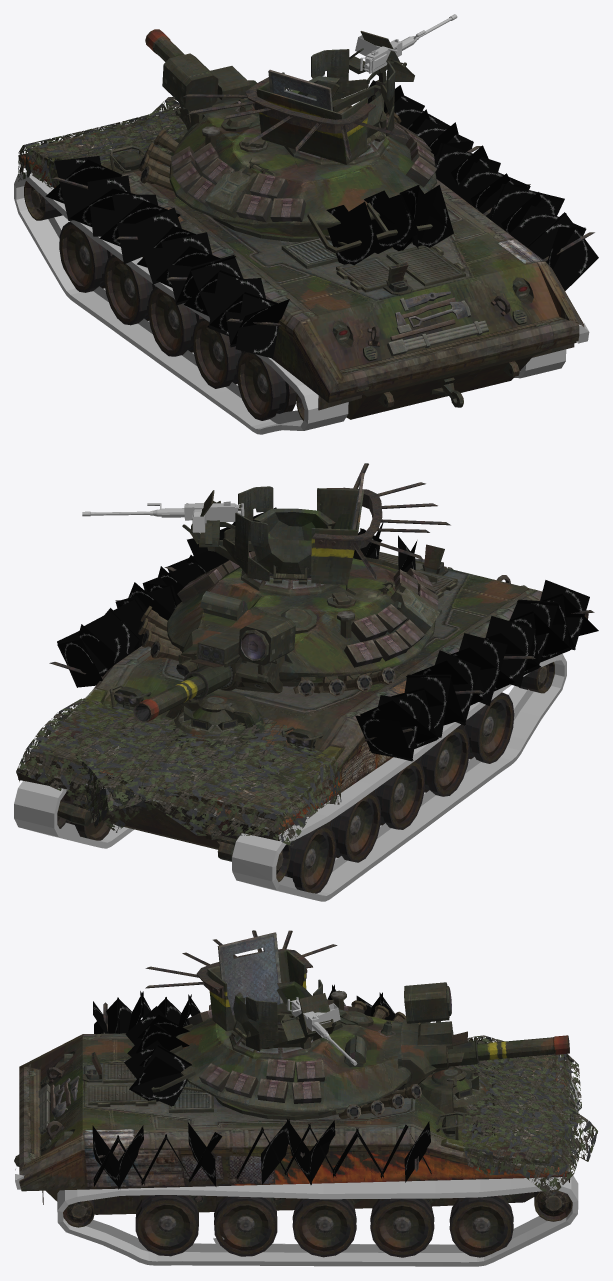
The model's file is GM Allison M551 'Sheridan' 'Cavalera Light Tank'.obj.
3 renders of one model, top to bottom at view 1: azimuth 30°, elevation 25°; view 2: azimuth 150°, elevation 25°; view 3: azimuth 270°, elevation 25°, orthographic. The views are drawn at different scales.
Parts seen in each view (by area): view 1: DrawCall_1151, DrawCall_1339, DrawCall_1152, DrawCall_0254, DrawCall_1162, DrawCall_0257, DrawCall_1341, DrawCall_1174, DrawCall_1158, DrawCall_1167, DrawCall_1163, DrawCall_1165 (+9 smaller); view 2: DrawCall_1151, DrawCall_1341, DrawCall_1339, DrawCall_1152, DrawCall_0254, DrawCall_1158, DrawCall_1162, DrawCall_1174, DrawCall_0255, DrawCall_1163, DrawCall_1167, DrawCall_1164 (+9 smaller); view 3: DrawCall_1151, DrawCall_1152, DrawCall_0255, DrawCall_1341, DrawCall_1339, DrawCall_1158, DrawCall_1174, DrawCall_1162, DrawCall_0257, DrawCall_1172, DrawCall_1168, DrawCall_1171 (+8 smaller).
Part boxes in pixels (x1,y1,x2,y2): DrawCall_1151: [18, 111, 584, 419]; DrawCall_1339: [45, 80, 598, 358]; DrawCall_1152: [139, 98, 437, 253]; DrawCall_0254: [14, 172, 348, 434]; DrawCall_1162: [256, 49, 395, 164]; DrawCall_0257: [326, 185, 453, 265]; DrawCall_1341: [18, 87, 295, 189]; DrawCall_1174: [183, 69, 408, 159]; DrawCall_1158: [145, 29, 256, 130]; DrawCall_1167: [237, 351, 296, 420]; DrawCall_1163: [59, 222, 112, 292]; DrawCall_1165: [148, 286, 203, 356]; DrawCall_1151: [17, 544, 588, 861]; DrawCall_1341: [16, 698, 341, 846]; DrawCall_1339: [57, 507, 598, 761]; DrawCall_1152: [138, 551, 439, 696]; DrawCall_0254: [232, 654, 566, 901]; DrawCall_1158: [133, 613, 295, 722]; DrawCall_1162: [207, 486, 364, 596]; DrawCall_1174: [312, 463, 450, 580]; DrawCall_0255: [14, 781, 133, 848]; DrawCall_1163: [285, 825, 336, 893]; DrawCall_1167: [460, 692, 514, 763]; DrawCall_1164: [324, 792, 381, 862]; DrawCall_1151: [14, 1033, 575, 1214]; DrawCall_1152: [151, 990, 421, 1119]; DrawCall_0255: [57, 1175, 578, 1266]; DrawCall_1341: [455, 1035, 597, 1197]; DrawCall_1339: [92, 984, 431, 1189]; DrawCall_1158: [400, 982, 569, 1088]; DrawCall_1174: [145, 930, 337, 1015]; DrawCall_1162: [207, 949, 322, 1059]; DrawCall_0257: [124, 1006, 191, 1106]; DrawCall_1172: [135, 1195, 198, 1256]; DrawCall_1168: [449, 1195, 513, 1257]; DrawCall_1171: [214, 1196, 277, 1256].
Size of the model in its own units: 4.2 by 3.15 by 6.44.
